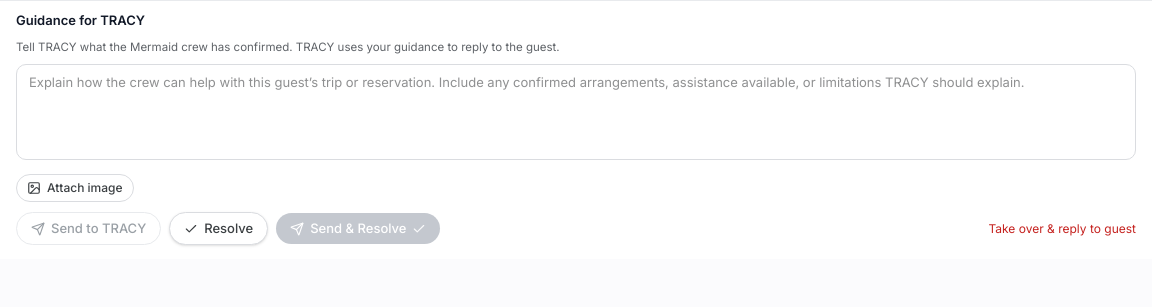
Test: escalation delivery confirmation › clears a confirmed soft send even if subsequent resolution loses its response
Replace the text in the text box with "Synthetic test message" at {"x": 576, "y": 112}, box [16, 64, 1136, 160]
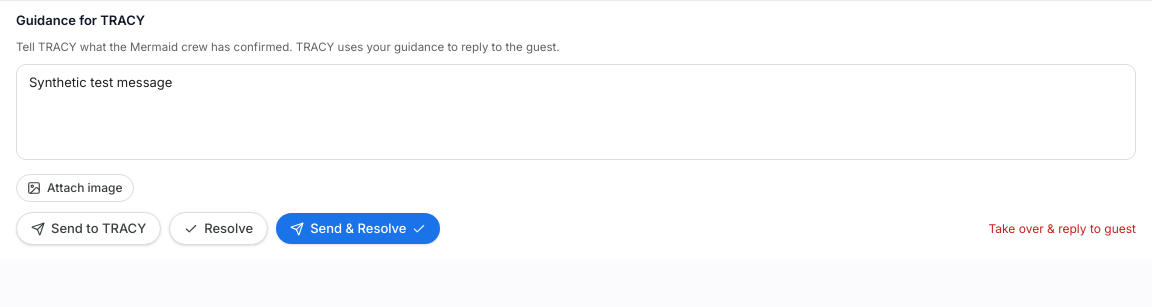
Click the button with aria-label "Send guidance and mark resolved".
click(358, 229)  # box [276, 213, 440, 244]
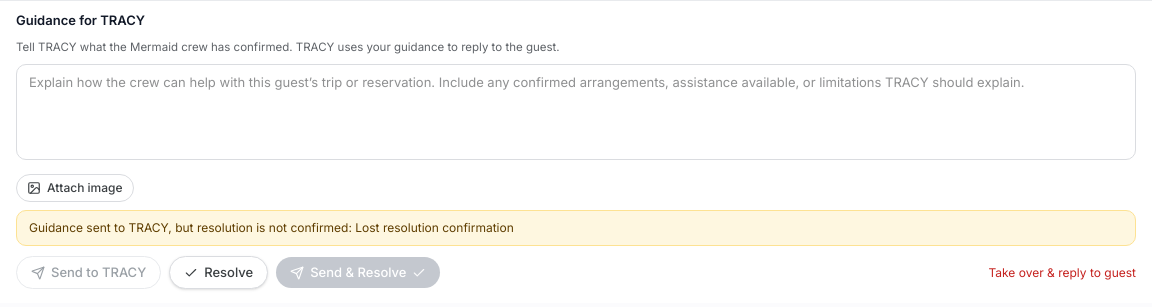
Expected: the message shows "resolution is not confirmed", [29, 220, 514, 235]
Expected: the message shows "Guidance sent to TRACY", [29, 220, 514, 235]
Expected: the text box is empty, [16, 64, 1136, 160]
